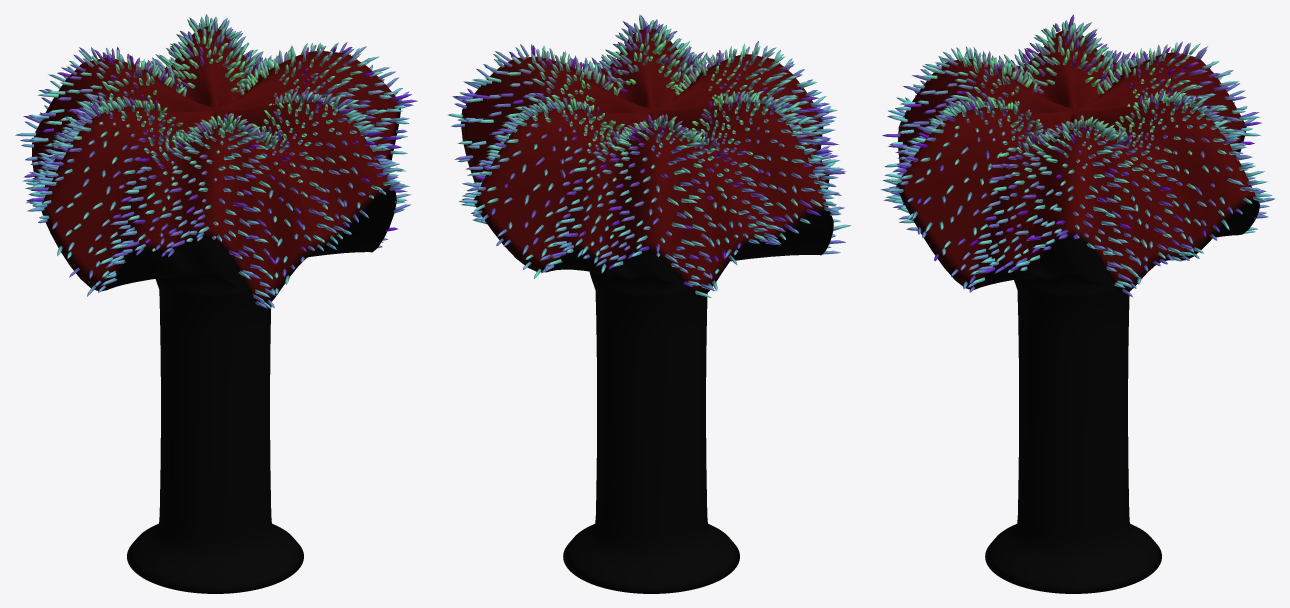
Rendered from anemone_plumose.glb.
The picture shows the model from 3 angles, left to right: view 1: azimuth 30°, elevation 25°; view 2: azimuth 150°, elevation 25°; view 3: azimuth 270°, elevation 25°; orthographic projection.
Parts seen in each view (by area): view 1: anemone_plumose; view 2: anemone_plumose; view 3: anemone_plumose.
Boxes of the visible parts, x1,y1,x2,y2 form: anemone_plumose: (15, 14, 417, 593); anemone_plumose: (448, 14, 850, 593); anemone_plumose: (880, 14, 1275, 593).
Size of the model in its own units: 0.3922 by 0.4714 by 0.3489.
